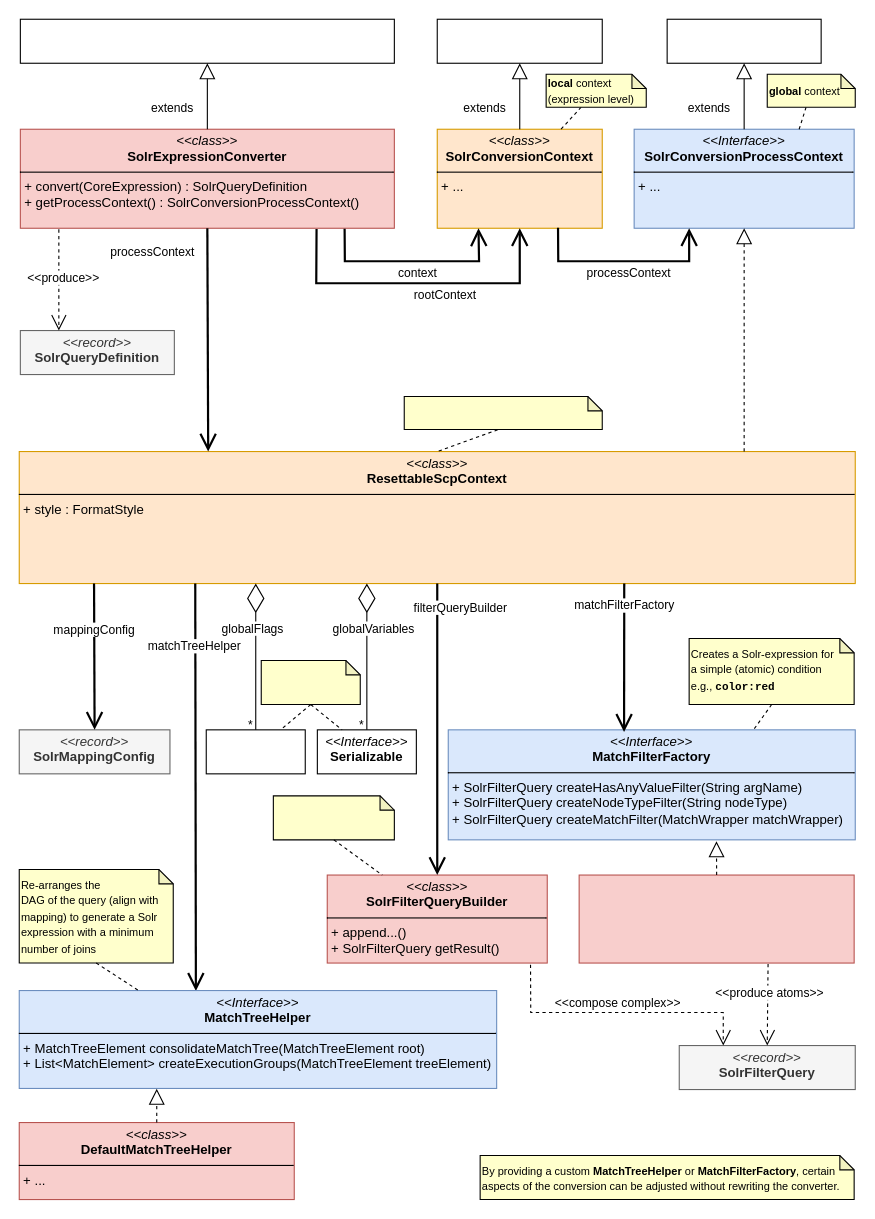
Some shapes in this 875 by 1219 pixel diagram are drawn without their labels. The box of each missing label's shape, as (x1, y1, x2, y2) in pixels:
<<abstract>> AbstractCoreExpressionConverter<R, C>: (19, 18, 394, 63)
<<class>> DefaultMatchFilterFactory + ...: (578, 874, 854, 963)
<<Interface>> ConversionContext: (436, 18, 602, 63)
<<Interface>> Flag: (205, 729, 305, 774)
<<Interface>> ProcessContext: (666, 18, 821, 63)
central state management Init/reset before each conversion: (403, 395, 602, 430)
configuration and data exchange: (260, 659, 360, 705)
create single query step by step: (272, 795, 394, 840)
